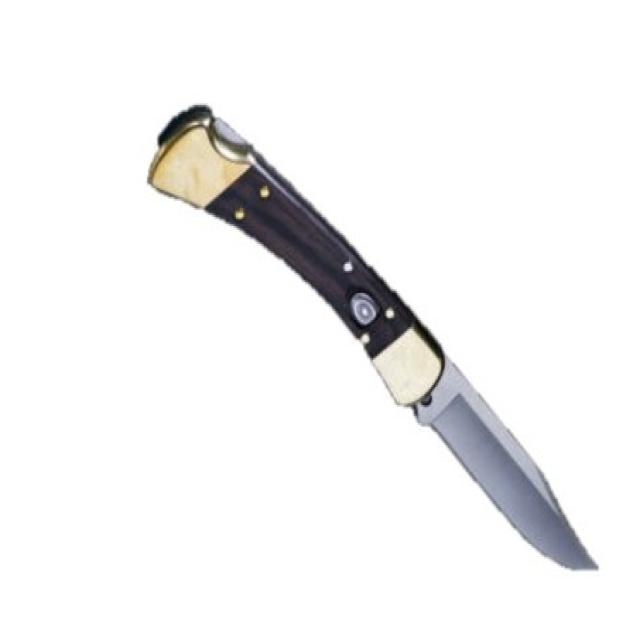knife: (145, 96, 603, 580)
